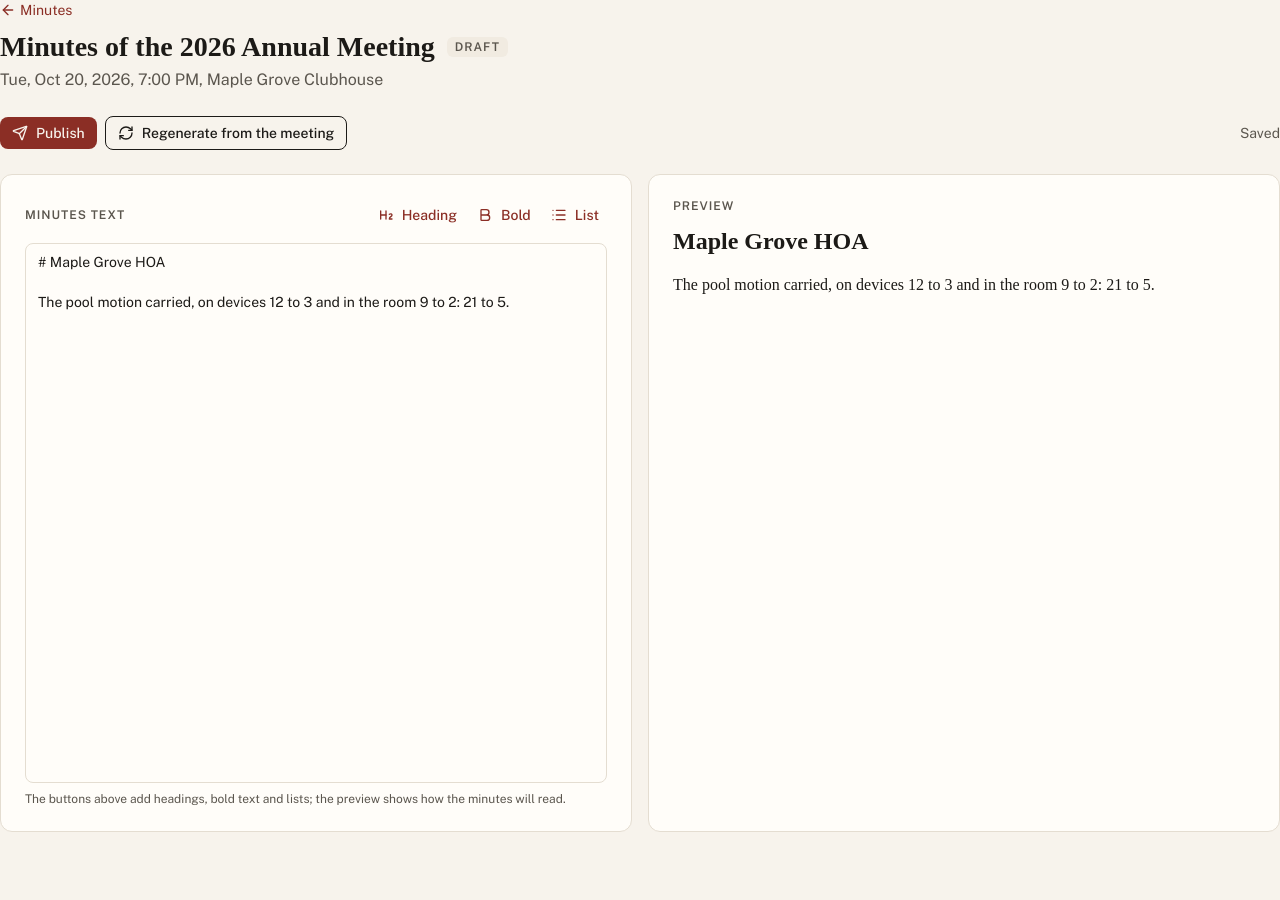
Test case: MinutesPage › writes a draft again from the meeting, after asking
The width and height of the screenshot is (1280, 900).
Click the button "Regenerate from the meeting": point(226, 133) [105,116,347,150]
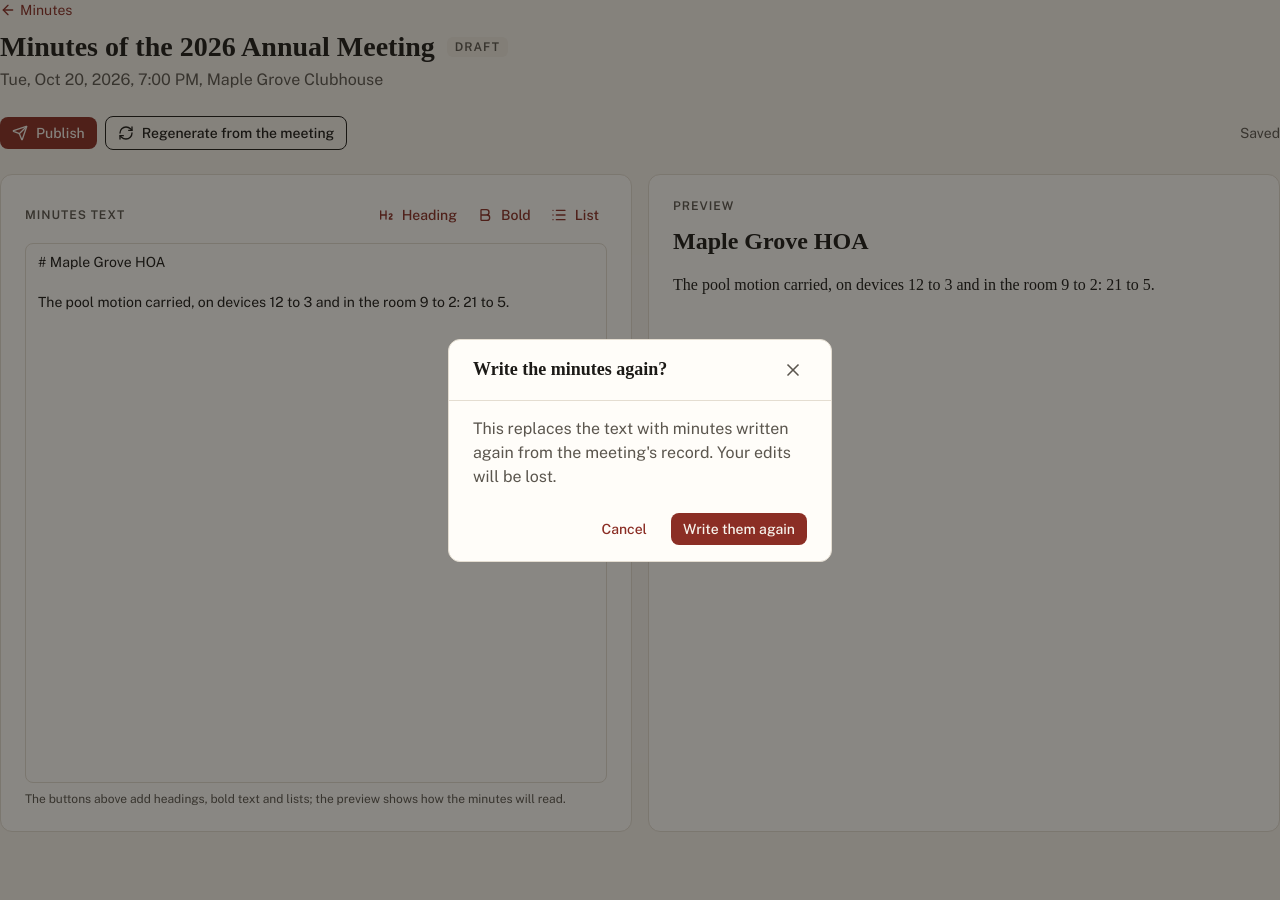
Click the button "Write them again": point(739, 528) [671,512,807,544]
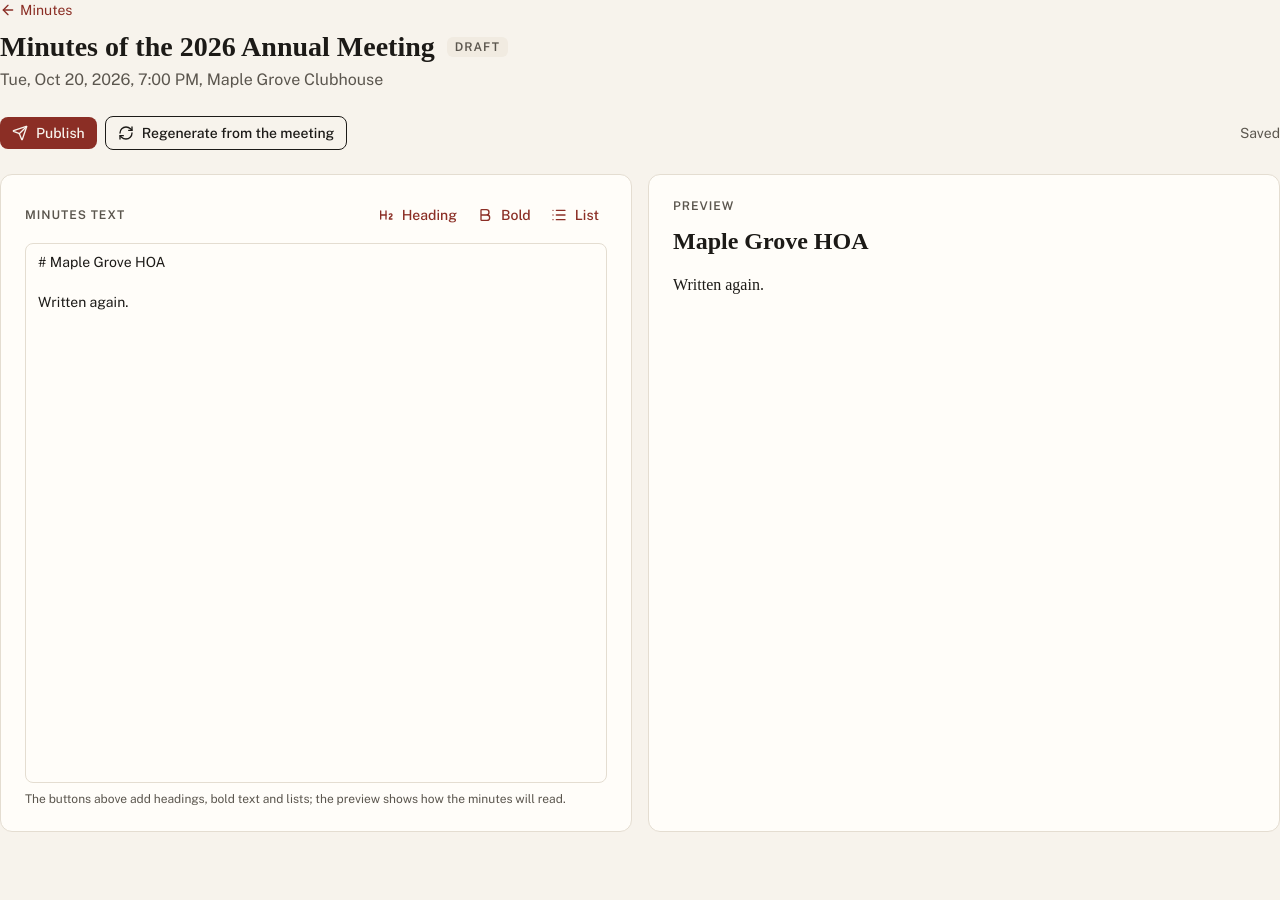
Now the text "Written again." is shown, box [673,276,764,293]
